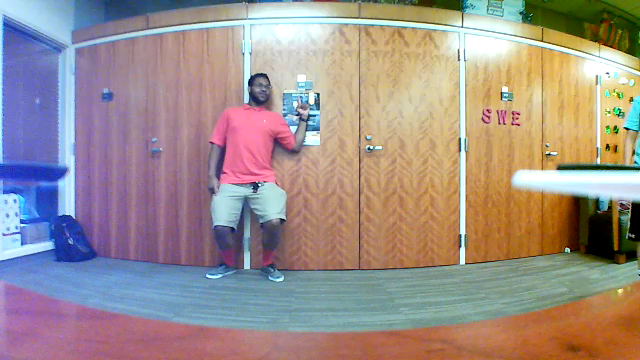up: (292, 89, 315, 128)
